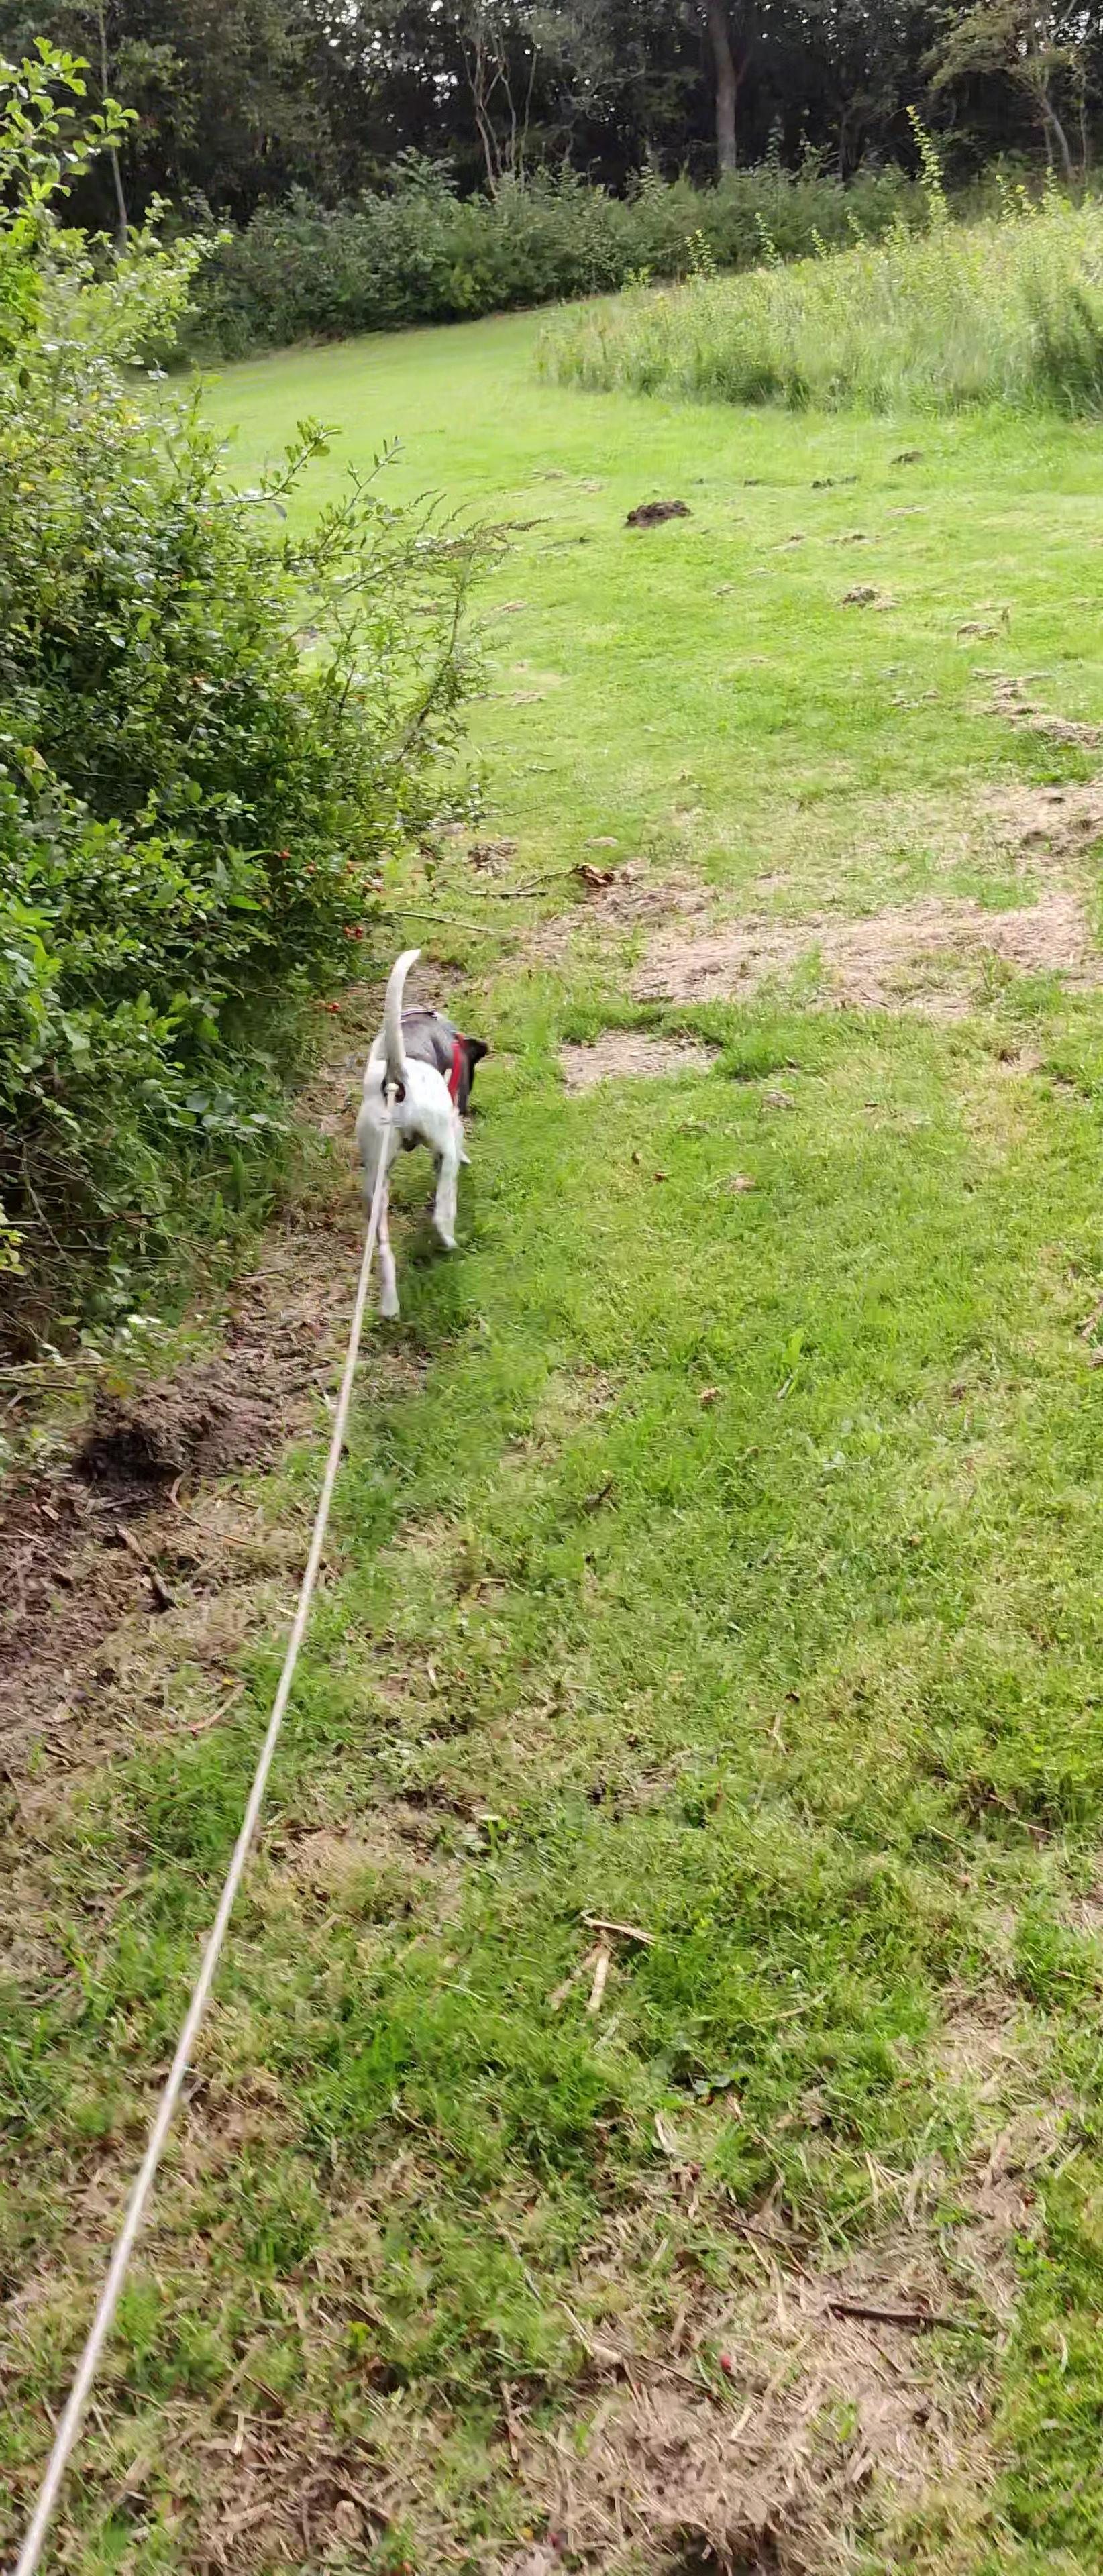Dog: (342, 943, 498, 1327)
